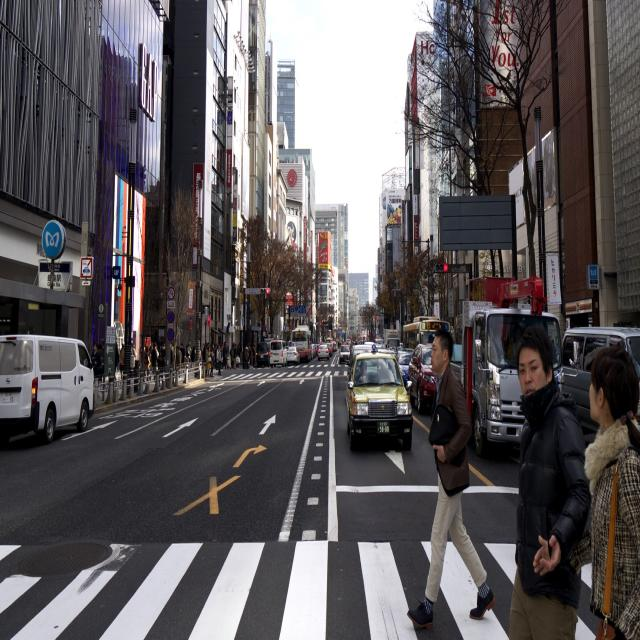body: (532, 342, 640, 639), (406, 328, 496, 628), (508, 324, 593, 640), (94, 343, 104, 382), (143, 345, 150, 382), (358, 362, 369, 384), (175, 345, 182, 378), (119, 344, 125, 380), (209, 348, 216, 377), (151, 343, 157, 375), (205, 347, 211, 377), (223, 341, 229, 368), (180, 342, 185, 374), (114, 338, 118, 378), (169, 342, 174, 374), (132, 343, 137, 368), (130, 343, 134, 374), (244, 346, 249, 370), (346, 339, 365, 345), (218, 347, 222, 375), (91, 342, 98, 358), (252, 344, 256, 370), (231, 343, 235, 369), (233, 344, 237, 369), (162, 342, 166, 367), (216, 346, 220, 370), (248, 344, 252, 367), (336, 338, 342, 351), (212, 342, 224, 348), (191, 345, 195, 362), (201, 344, 204, 363), (237, 344, 240, 362), (186, 344, 189, 358), (206, 341, 212, 346), (150, 341, 152, 349)
